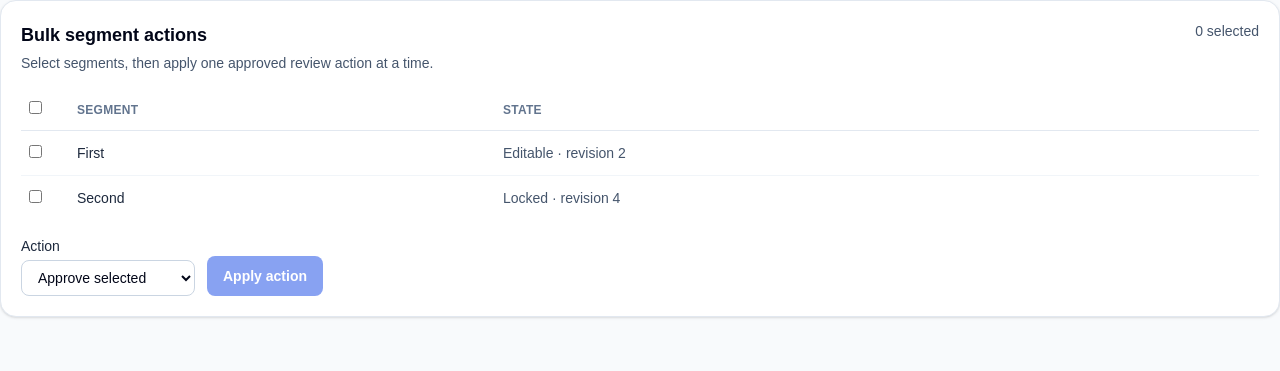
BulkSegmentActions › submits selected IDs with their current revisions
What coordinates should you click on to do the following:
click the checkbox named "Select First" next to "First"
I would click on:
 (36, 152)
Its box is left=29, top=145, right=42, bottom=158.
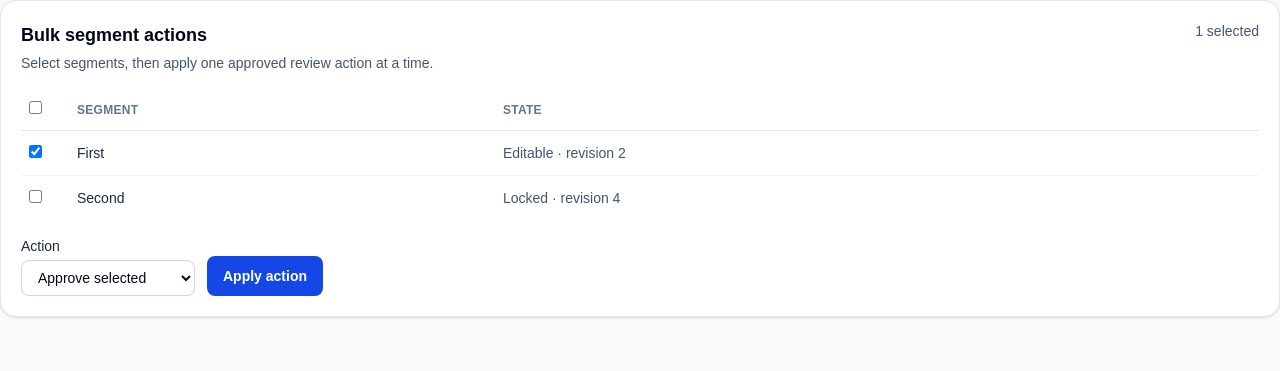
What coordinates should you click on to do the following:
click the button "Apply action"
I would click on:
 (265, 276)
Its box is left=207, top=256, right=323, bottom=296.
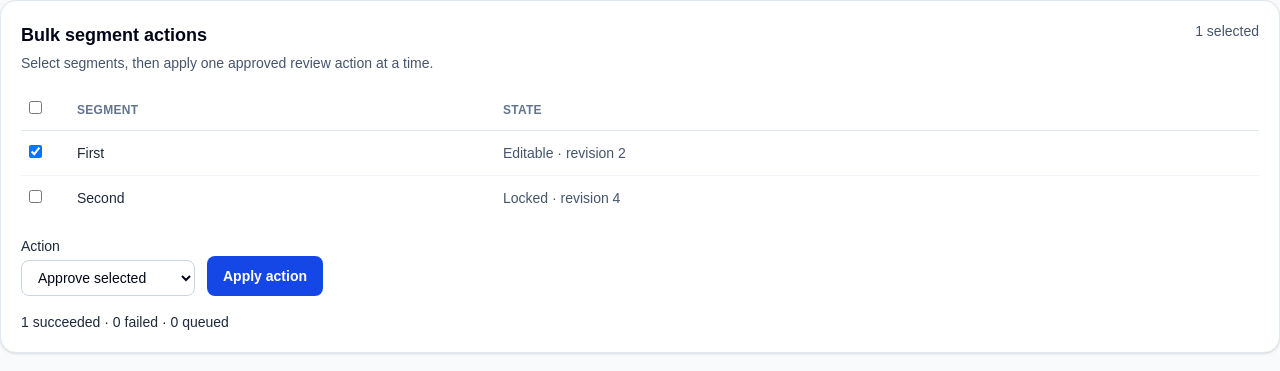
Check: the text "1 succeeded · 0 failed · 0 queued" is shown, box left=21, top=314, right=229, bottom=330
